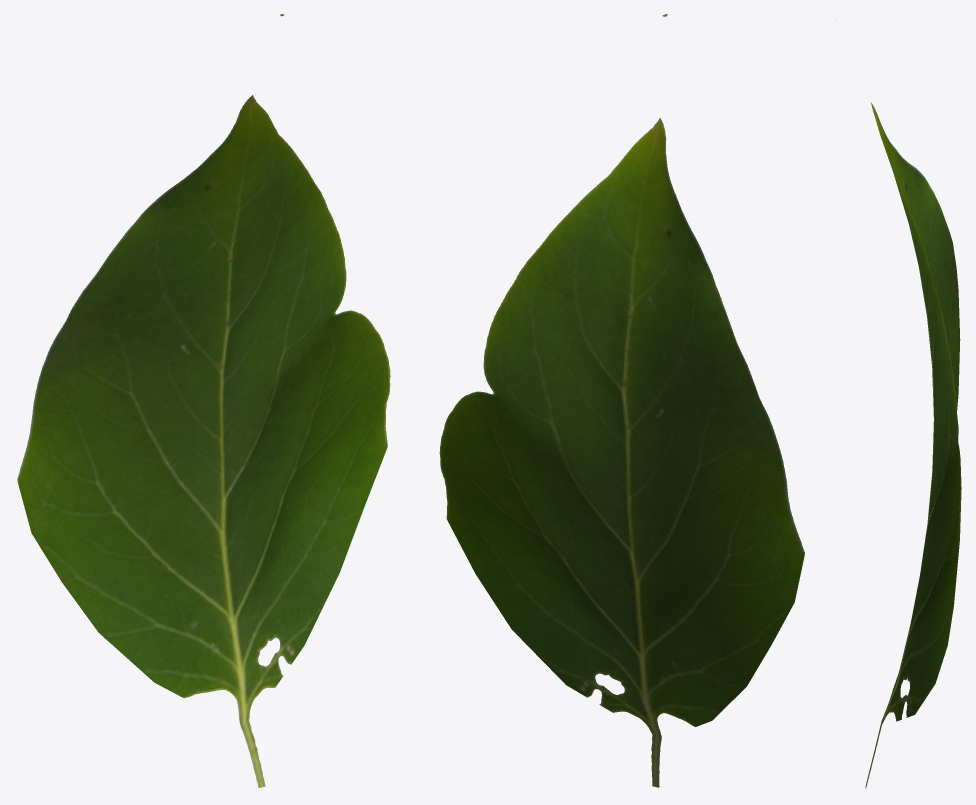
The model's file is leaf.glb.
3 renders of one model, left to right at view 1: azimuth 30°, elevation 25°; view 2: azimuth 150°, elevation 25°; view 3: azimuth 270°, elevation 25°, orthographic. The views are drawn at different scales.
Parts seen in each view (by area): view 1: Leaf_0; view 2: Leaf_0; view 3: Leaf_0.
Boxes of the visible parts, <box> form: Leaf_0: <box>17,14,390,787</box>; Leaf_0: <box>439,14,804,787</box>; Leaf_0: <box>865,102,961,788</box>.
Size of the model in its own units: 0.5845 by 1.13 by 0.1671.
1 material, 1 textured.
